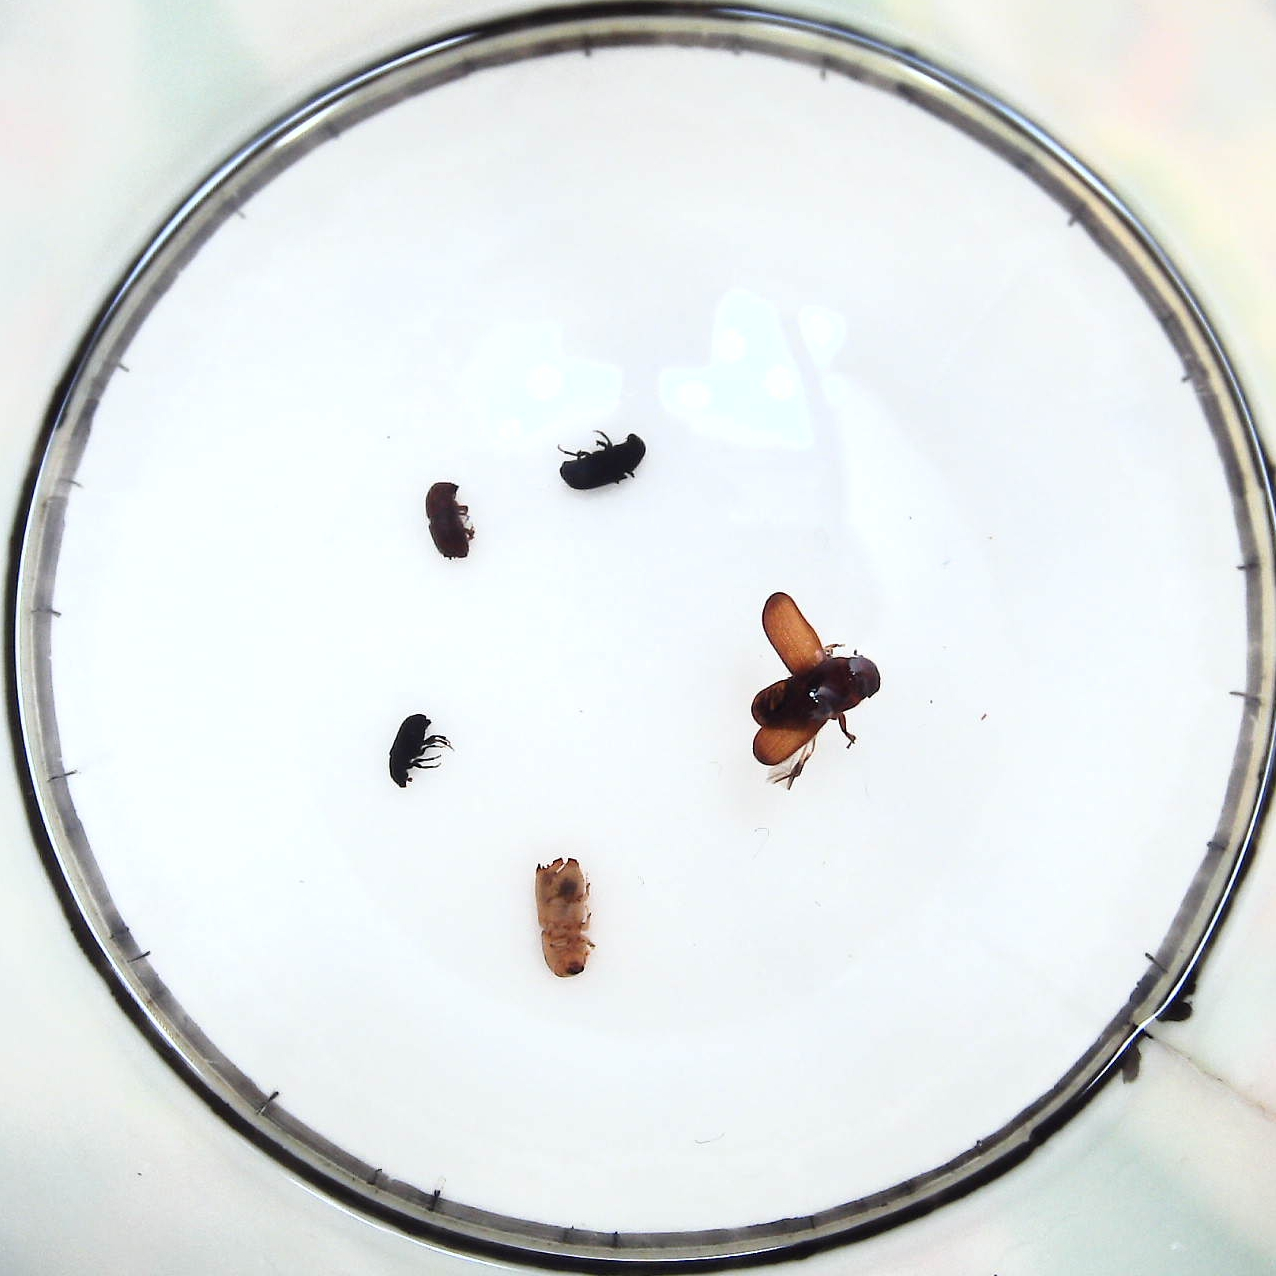Boerner: (532, 857, 599, 977)
Leconte: (748, 592, 882, 783)
Linnaeus: (419, 480, 476, 563)
armandi: (560, 434, 647, 492)
coleoptera: (384, 708, 444, 784)
